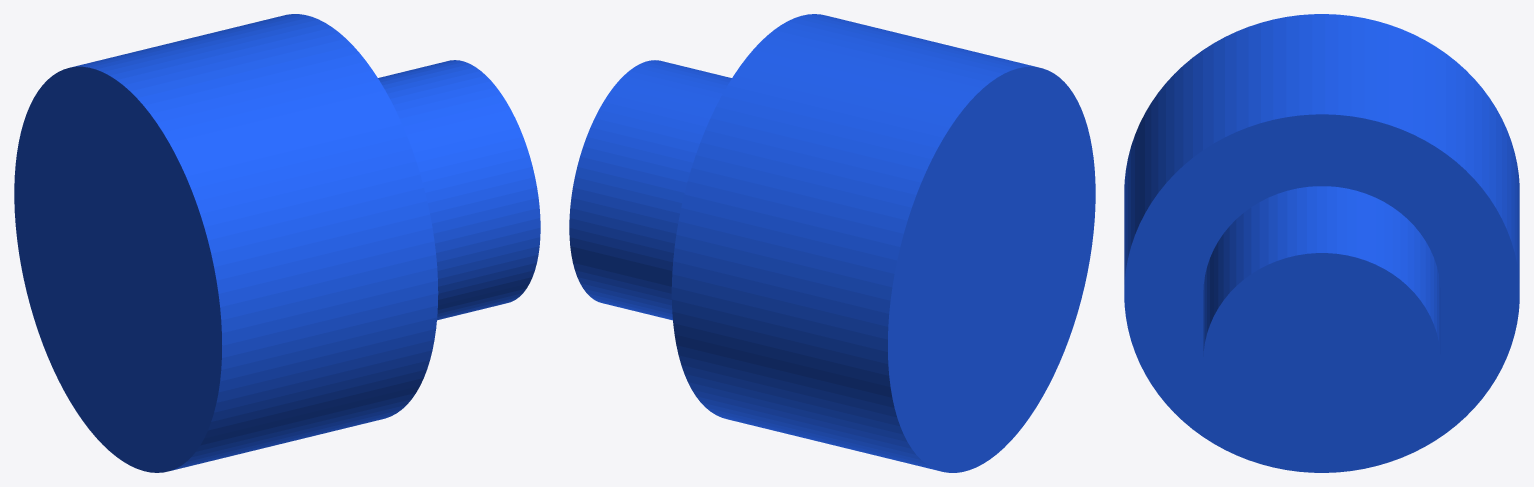
3 views of the same model, side by side, from view 1: azimuth 30°, elevation 25°; view 2: azimuth 150°, elevation 25°; view 3: azimuth 270°, elevation 25° (orthographic). The views are drawn at different scales.
Bounding box in the file's own units: 50 × 49.99 × 49.99.
